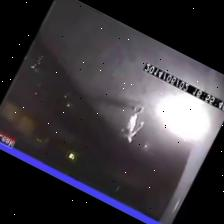person: (123, 106, 144, 142)
